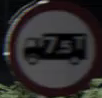Heavy Vehicles: (10, 12, 89, 77)
